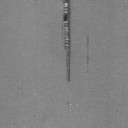slag inclusion: (61, 0, 73, 82), (86, 34, 89, 48), (86, 55, 89, 64)
